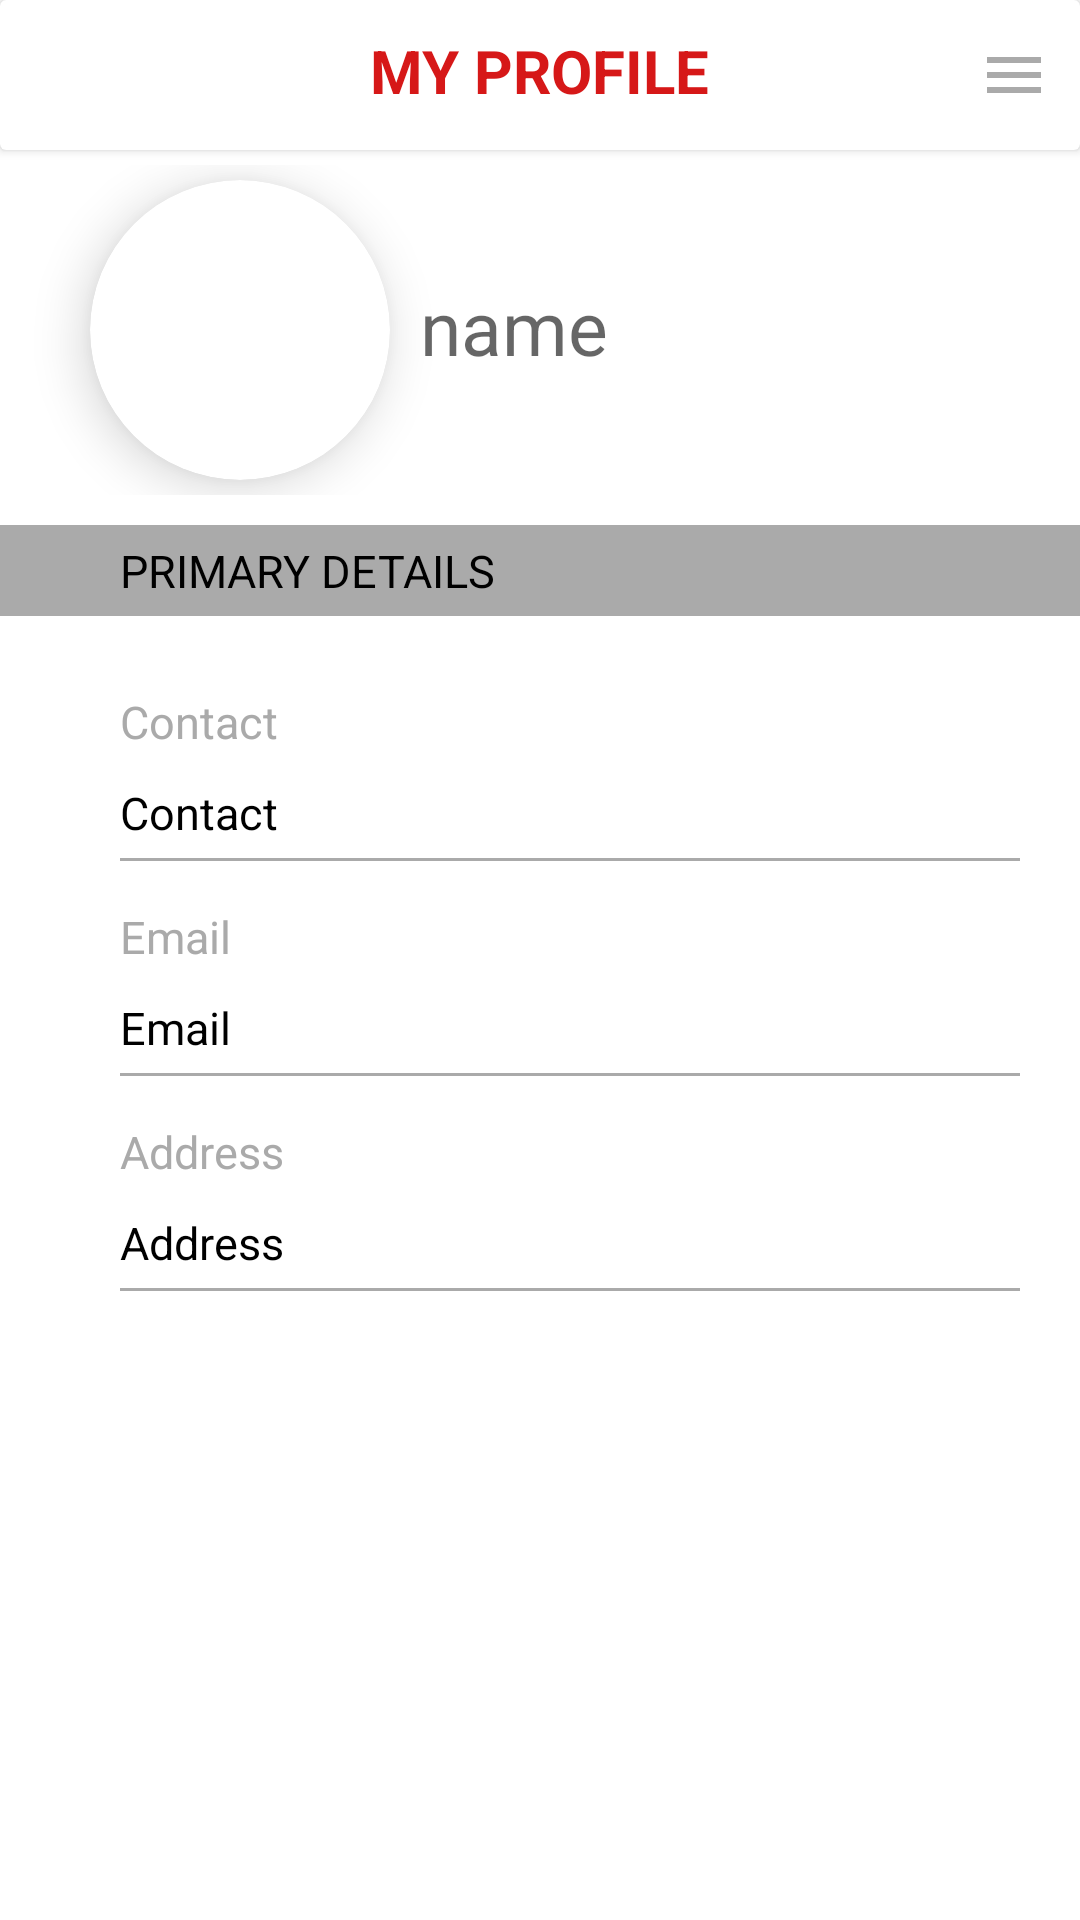

Where to tap for icons on this 1080x1920 app screen, as (x=x, y=y):
menu: (x=1014, y=75)
